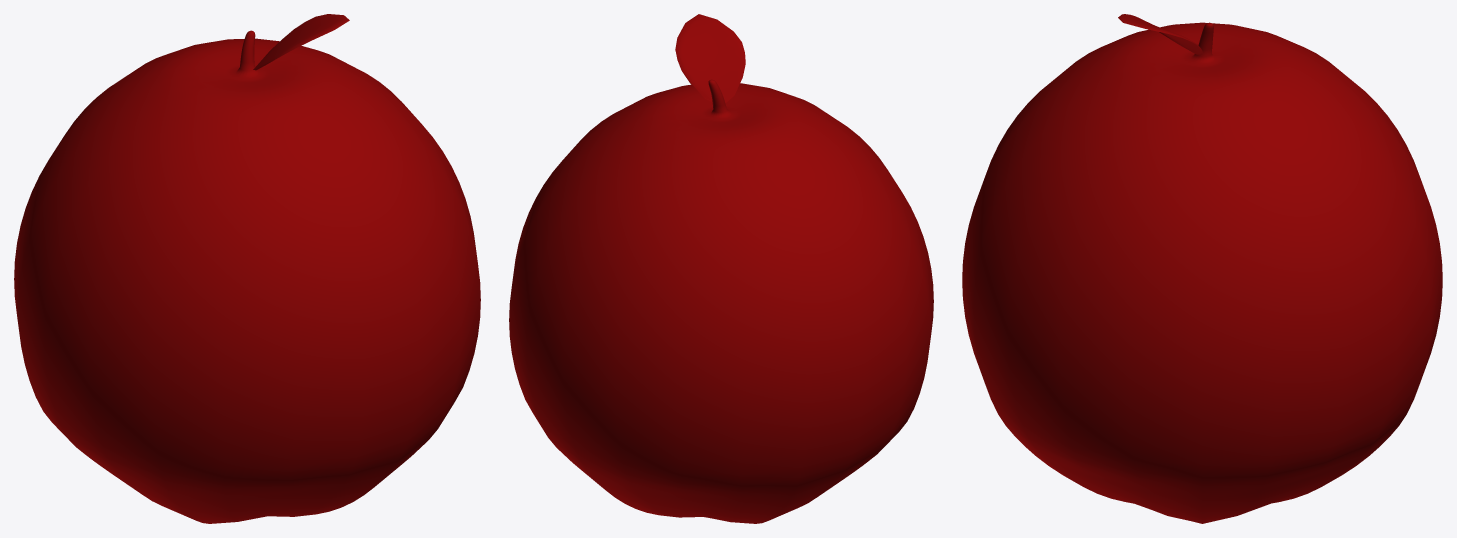
Rendered from apple.fbx.
3 views of the same model, side by side, from view 1: azimuth 30°, elevation 25°; view 2: azimuth 150°, elevation 25°; view 3: azimuth 270°, elevation 25° (orthographic). The views are drawn at different scales.
Parts seen in each view (by area): view 1: polySurface7; view 2: polySurface7; view 3: polySurface7.
Part boxes in pixels (x1=…): polySurface7: x1=14, y1=14, x2=480, y2=523; polySurface7: x1=509, y1=14, x2=933, y2=523; polySurface7: x1=962, y1=14, x2=1442, y2=523.
Bounding box in the file's own units: 1.84 × 2.13 × 1.83.
